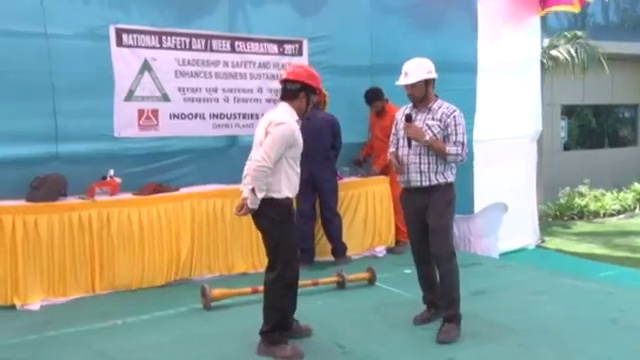helmet: (279, 63, 324, 93), (393, 57, 439, 86), (315, 87, 331, 109)
helmet_off: (364, 87, 387, 115)
helmet_on: (279, 62, 323, 122), (392, 56, 440, 107), (314, 88, 332, 115)
person: (236, 62, 323, 360), (391, 56, 468, 344), (303, 86, 353, 265), (359, 87, 409, 255)
